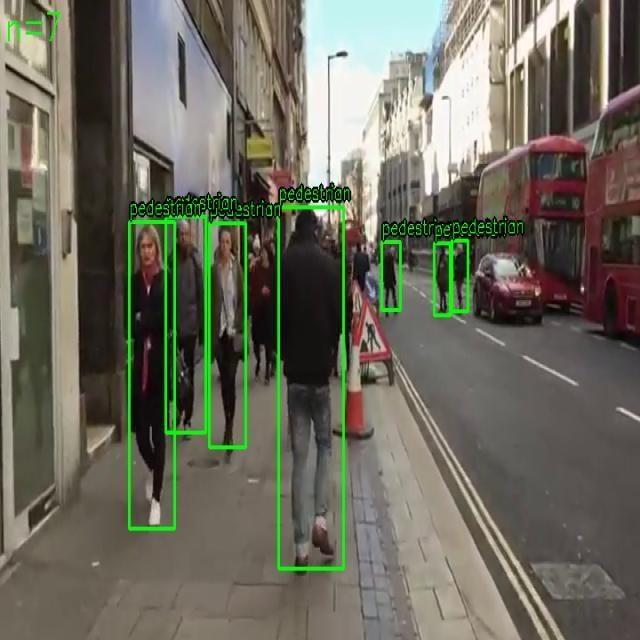person: (278, 206, 344, 570), (129, 222, 175, 530), (166, 216, 207, 433), (208, 223, 246, 448), (381, 241, 401, 311), (434, 242, 451, 316), (452, 240, 468, 312)
